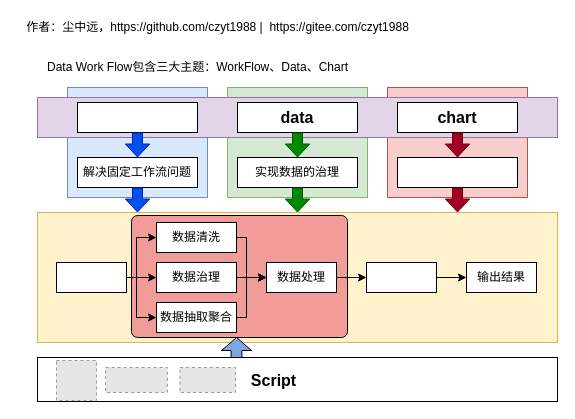
Some shapes in this 575 by 419 pixel diagram are drawn without their labels. Grey dashed boxes stand in for pictures. Each missing label, with the centre of its shape:
work flow: the point at 137,117
实现数据可视化: the point at 457,172
导入数据: the point at 91,277
数据可视化: the point at 401,277
